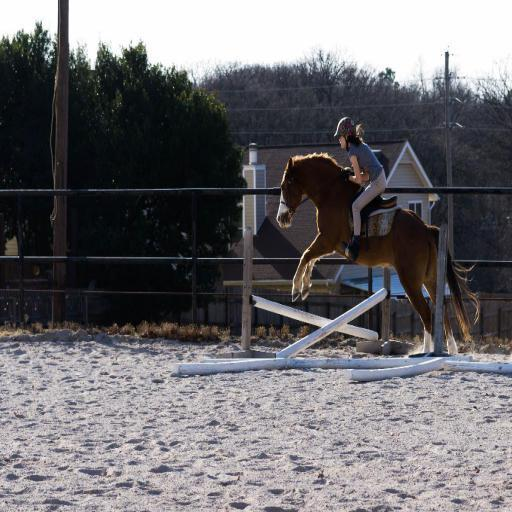horse: (274, 150, 482, 358)
